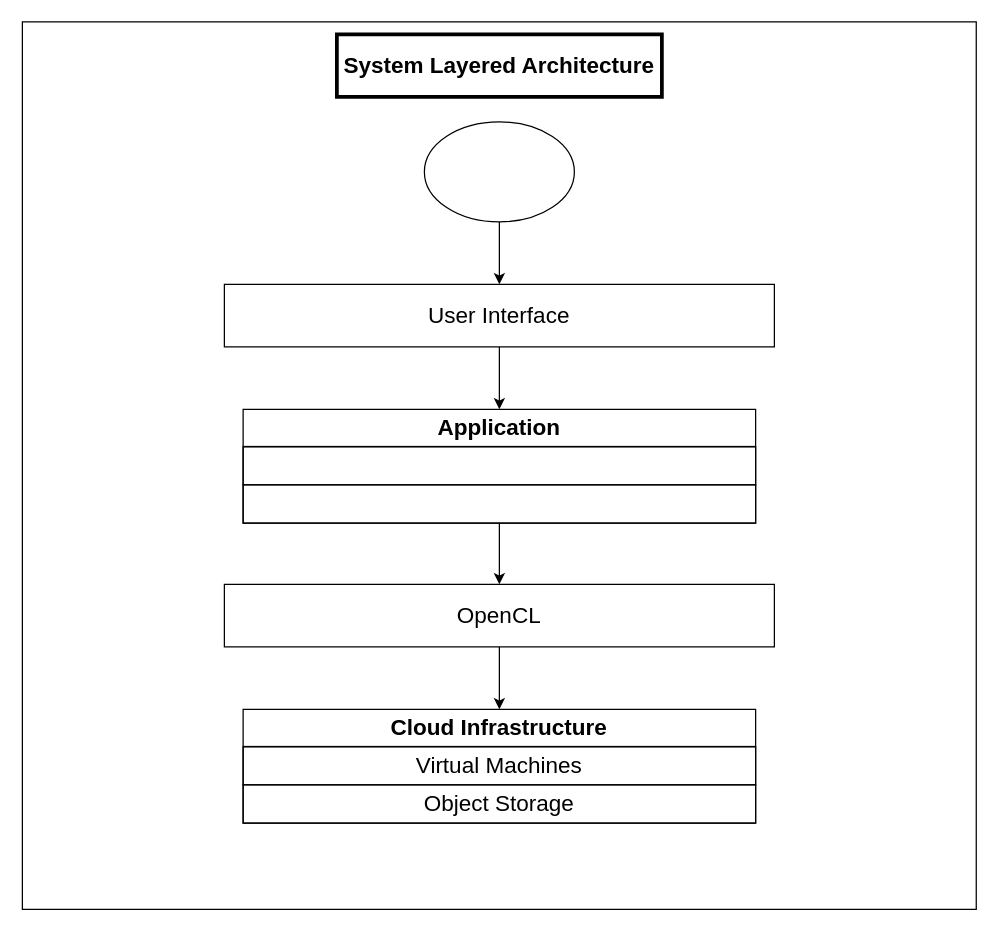
Image size: 999x931. Some labels were removed from this diagram. The centre of each missing label's shape, as x and y in pixels:
"Load Balancer" goes at point (499, 503).
"Task Scheduler" goes at point (499, 465).
"Users" goes at point (498, 171).
